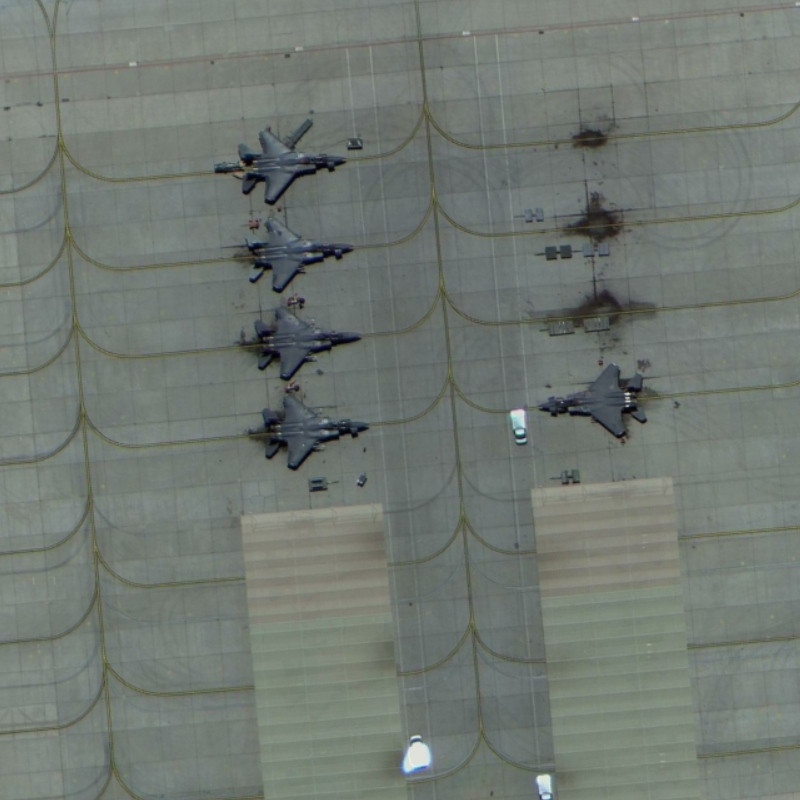A13: (526, 356, 659, 446), (232, 117, 353, 209), (247, 298, 368, 388), (257, 381, 376, 472), (238, 209, 362, 294)
